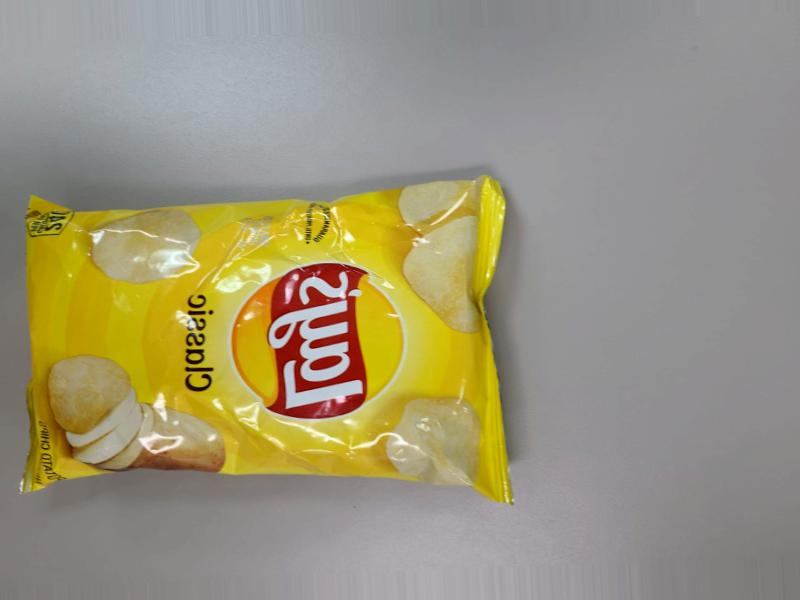lays: (84, 217, 562, 531)
